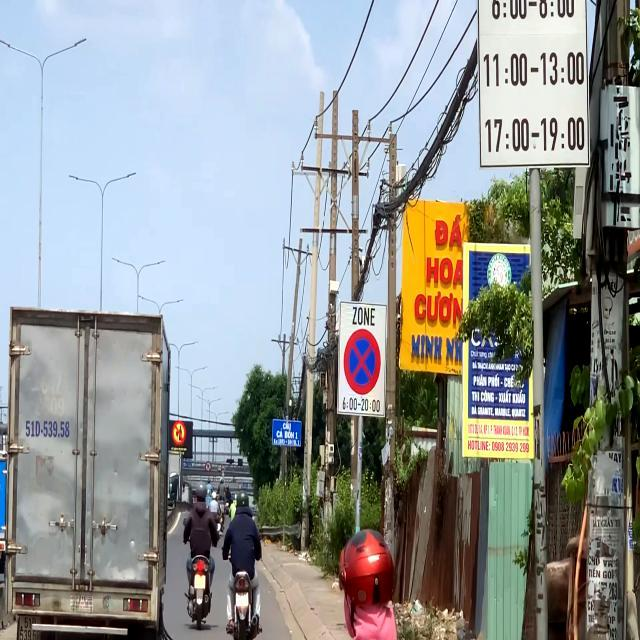Cam dung xe va do xe: (343, 328, 381, 394)
